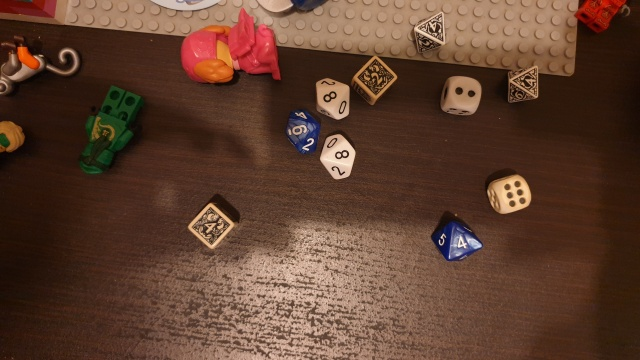d10-4: (432, 218, 484, 265)
d10-6: (281, 103, 323, 160)
d10-8: (316, 130, 357, 183), (311, 77, 352, 124)
d6-2: (439, 69, 482, 118)
d6-6: (483, 170, 531, 218)
d6p-2: (347, 55, 398, 105)
d6p-4: (184, 201, 238, 249)
d8p-4: (501, 65, 545, 109), (412, 9, 449, 55)
